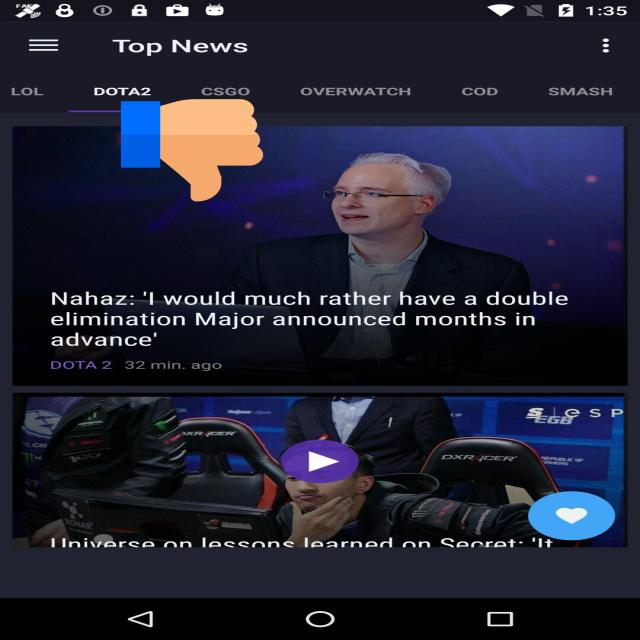obstruction: (121, 97, 263, 204)
